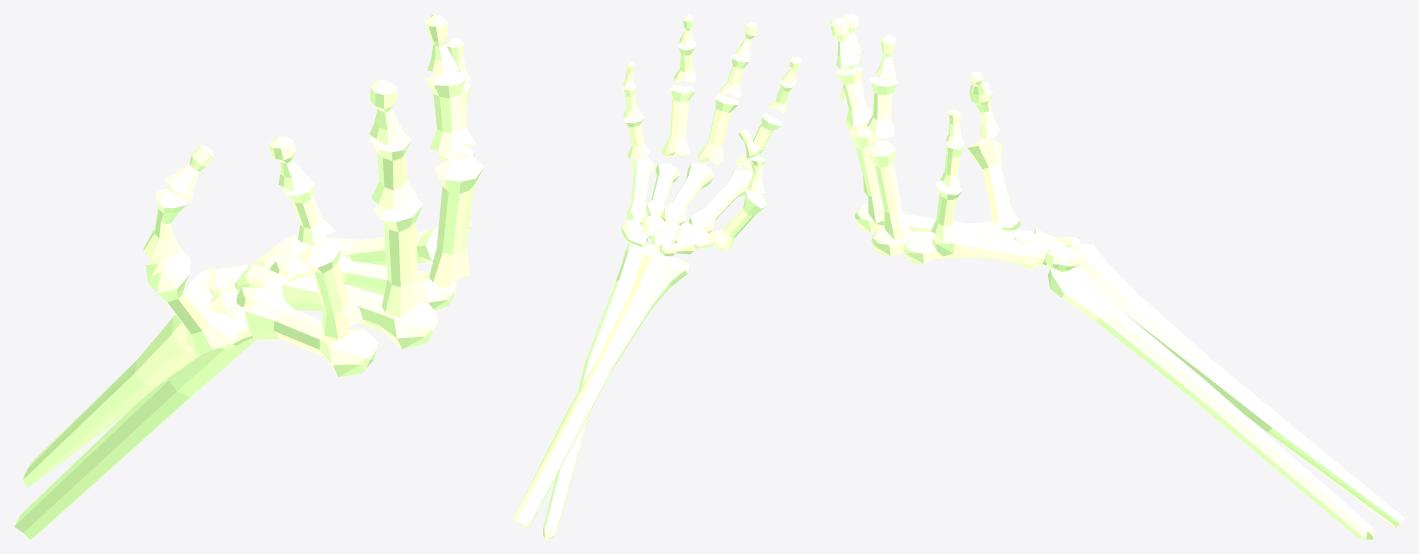
The model's file is hand pose 1.fbx.
The picture shows the model from 3 angles, left to right: view 1: azimuth 30°, elevation 25°; view 2: azimuth 150°, elevation 25°; view 3: azimuth 270°, elevation 25°; orthographic projection. The views are drawn at different scales.
Parts seen in each view (by area): view 1: Cube.003; view 2: Cube.003; view 3: Cube.003.
Part boxes in pixels (box(x1,y1,x2,y2)): Cube.003: box(14, 14, 484, 539); Cube.003: box(513, 14, 801, 539); Cube.003: box(830, 14, 1404, 539).
Bounding box in the file's own units: 103 × 246 × 242.
